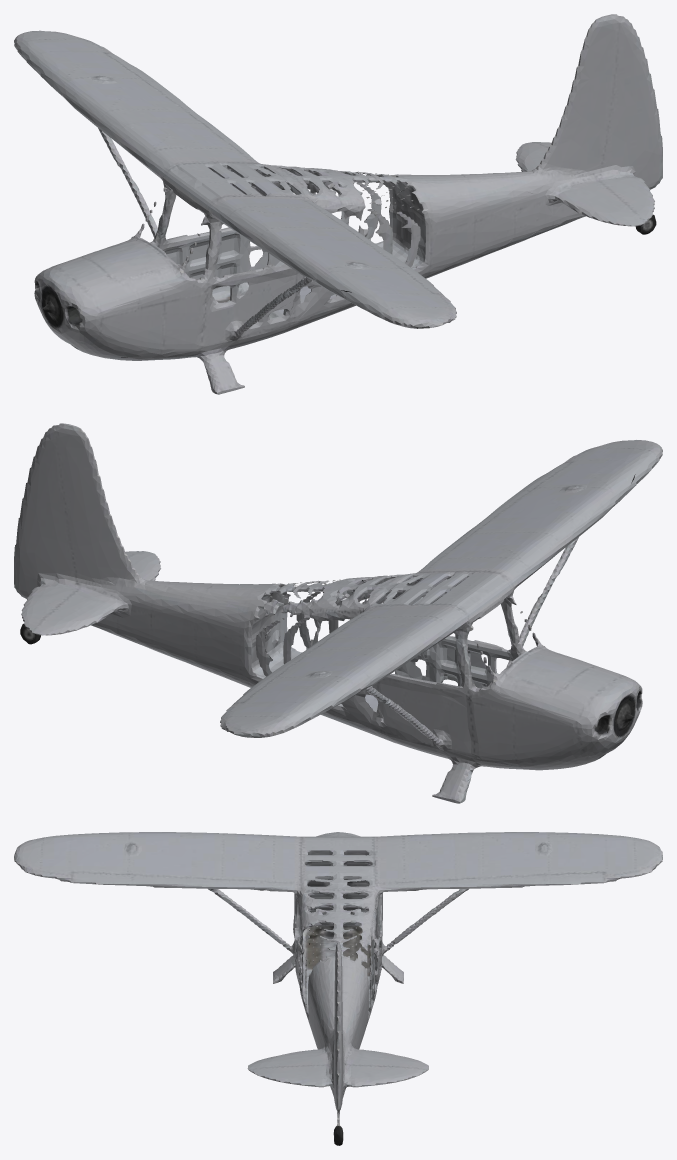
File: plane_trainer.glb
The picture shows the model from 3 angles, top to bottom: view 1: azimuth 30°, elevation 25°; view 2: azimuth 150°, elevation 25°; view 3: azimuth 270°, elevation 25°; orthographic projection. The views are drawn at different scales.
Parts seen in each view (by area): view 1: plane_trainer; view 2: plane_trainer; view 3: plane_trainer.
Boxes of the visible parts, x1,y1,x2,y2 form: plane_trainer: [14, 14, 662, 394]; plane_trainer: [14, 423, 662, 803]; plane_trainer: [14, 832, 662, 1145].
Size of the model in its own units: 1.7 by 0.6445 by 1.9.
Materials: 1 (1 with a texture image).
